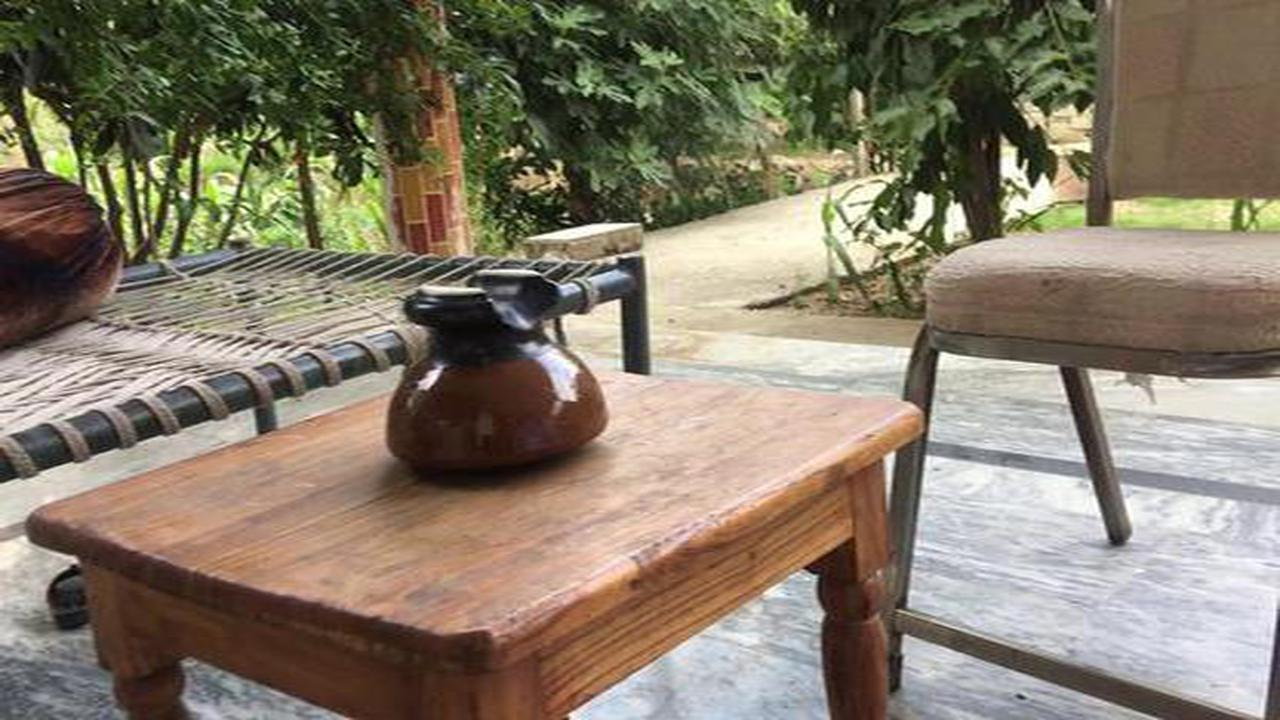insulator_pin: (364, 248, 647, 485)
